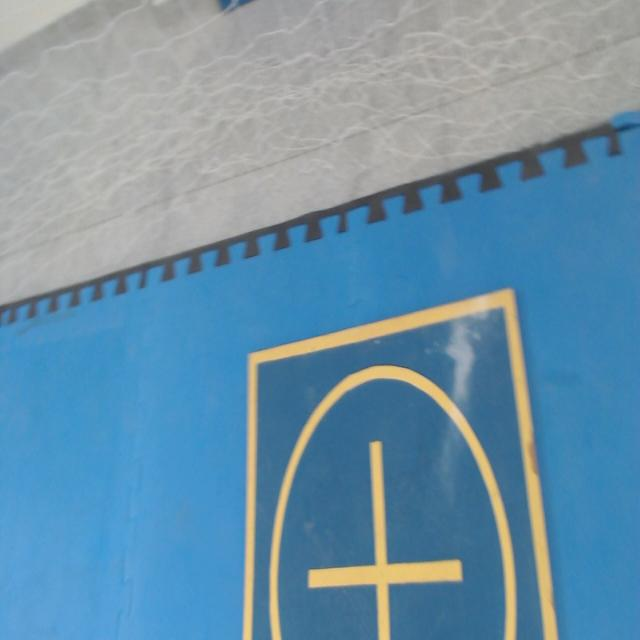base_pouso: (244, 286, 561, 639)
